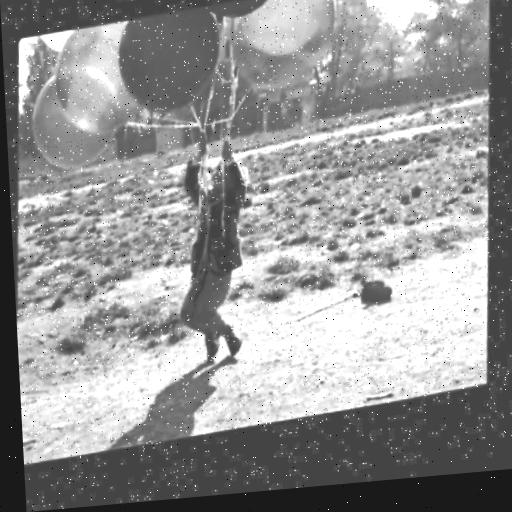balloon: (114, 7, 228, 122), (51, 19, 150, 141), (229, 0, 342, 103), (27, 66, 125, 177)
